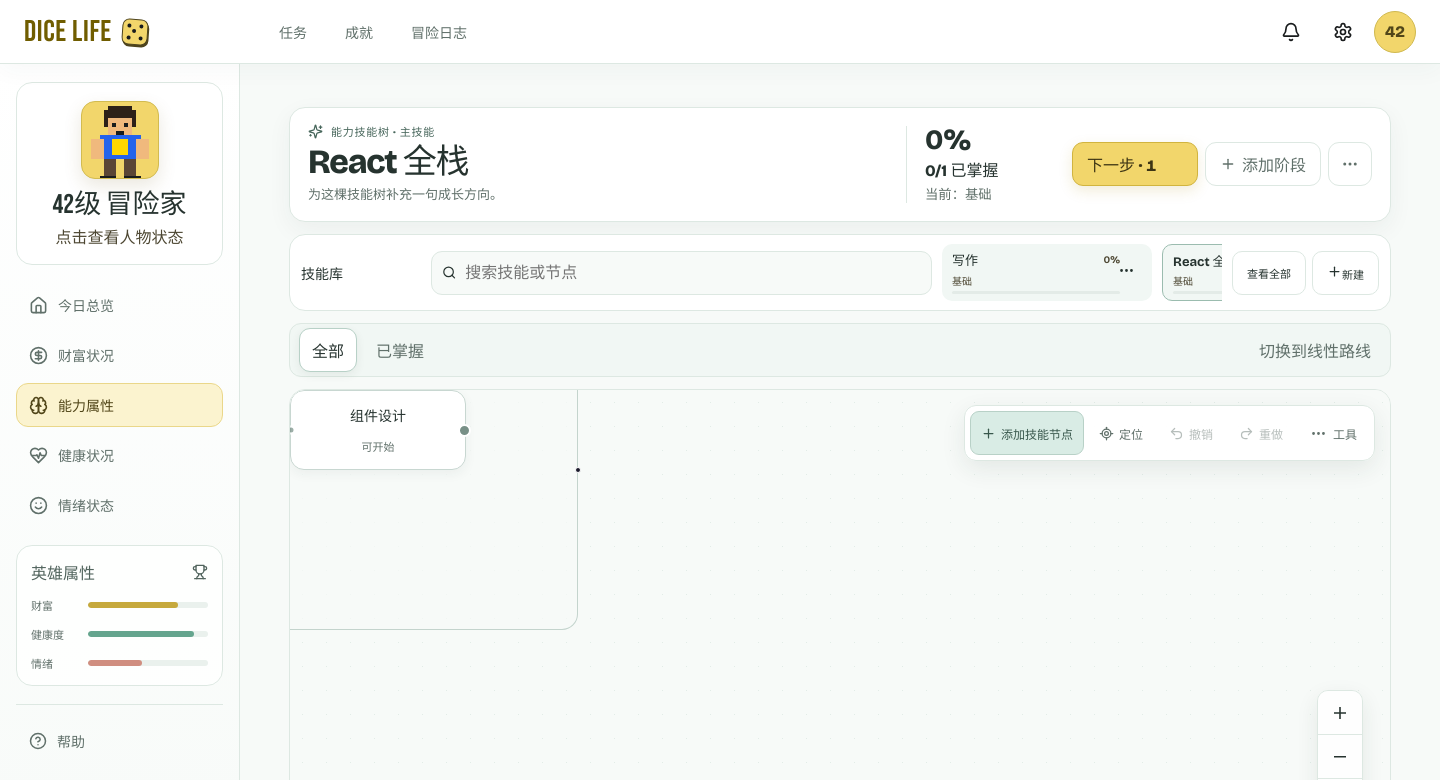
Test: Dice Life ability navigation › opens a direct tree URL and updates the path when switching trees
Click the button with aria-label "从技能库打开技能树 写作" at (1047, 273), box [942,244,1152,301]
(page scrolled)
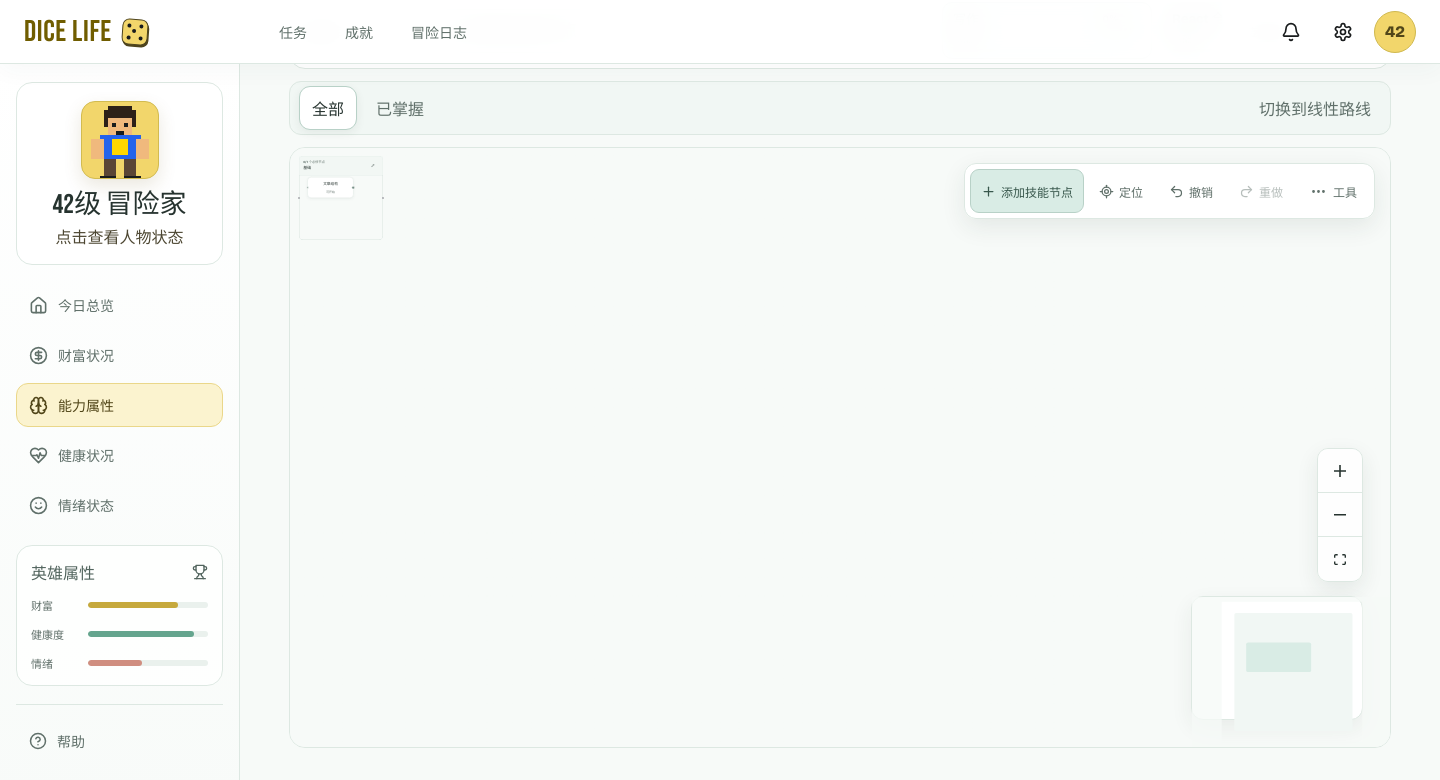
Check: the element named "写作交互画布" is shown, box [290,148,1390,748]
